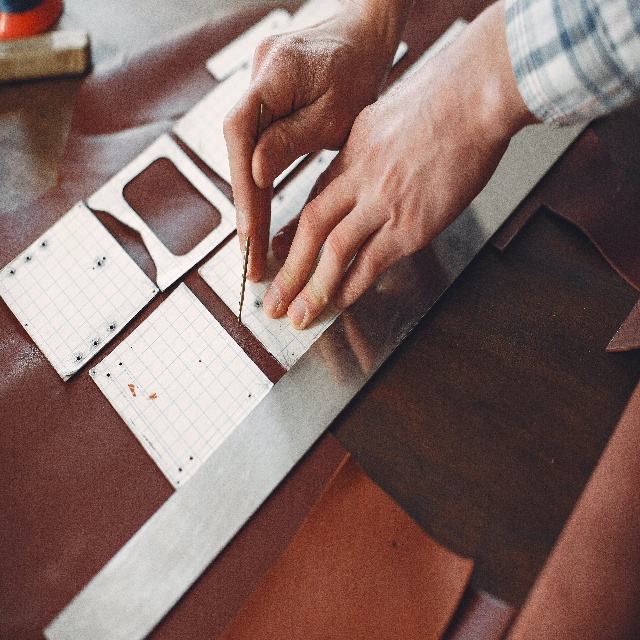Sin_guantes: (262, 11, 514, 332), (221, 0, 390, 284)
